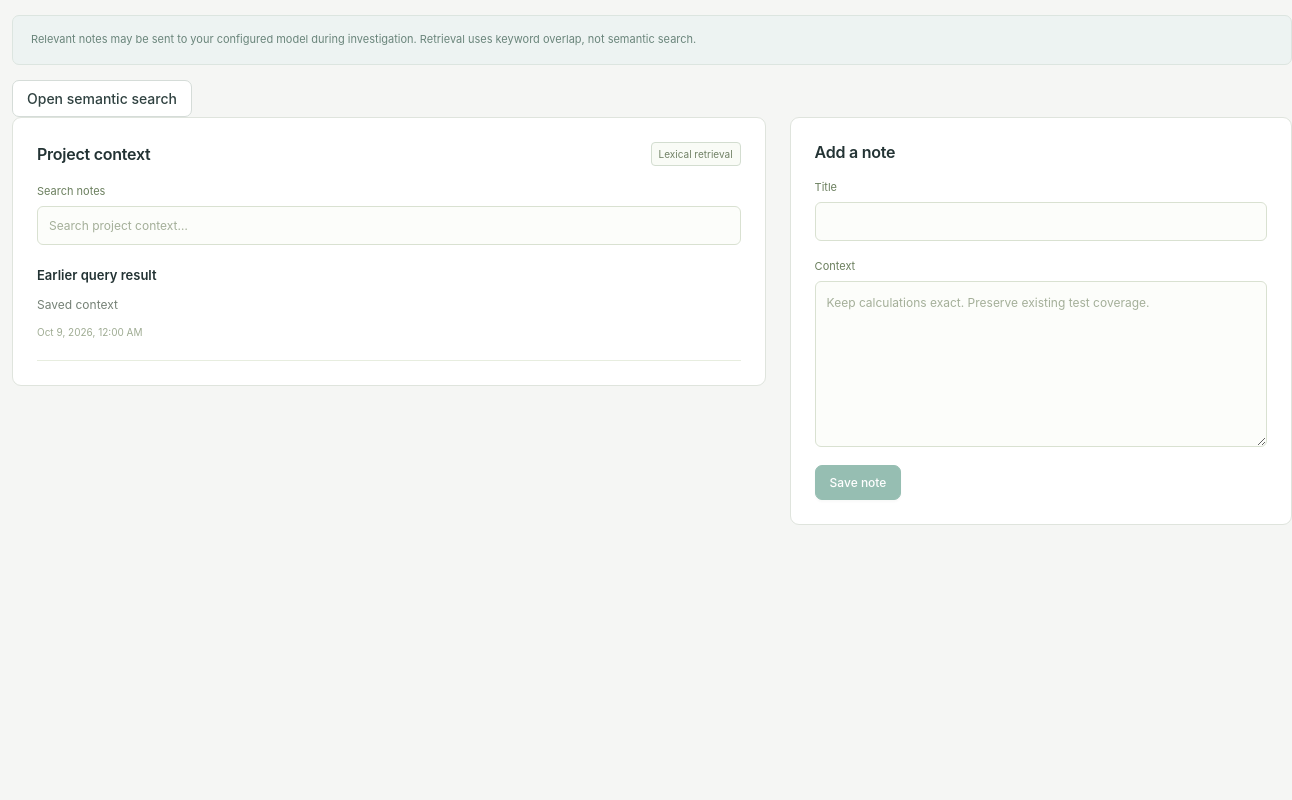
Scenario: failed searches do not present earlier notes as matching the new query and can recover
Expected: the heading "Earlier query result" is shown, [37,267,156,283]
In the search field labelled "Search notes": (389,225) [37,206,741,245], type "x"
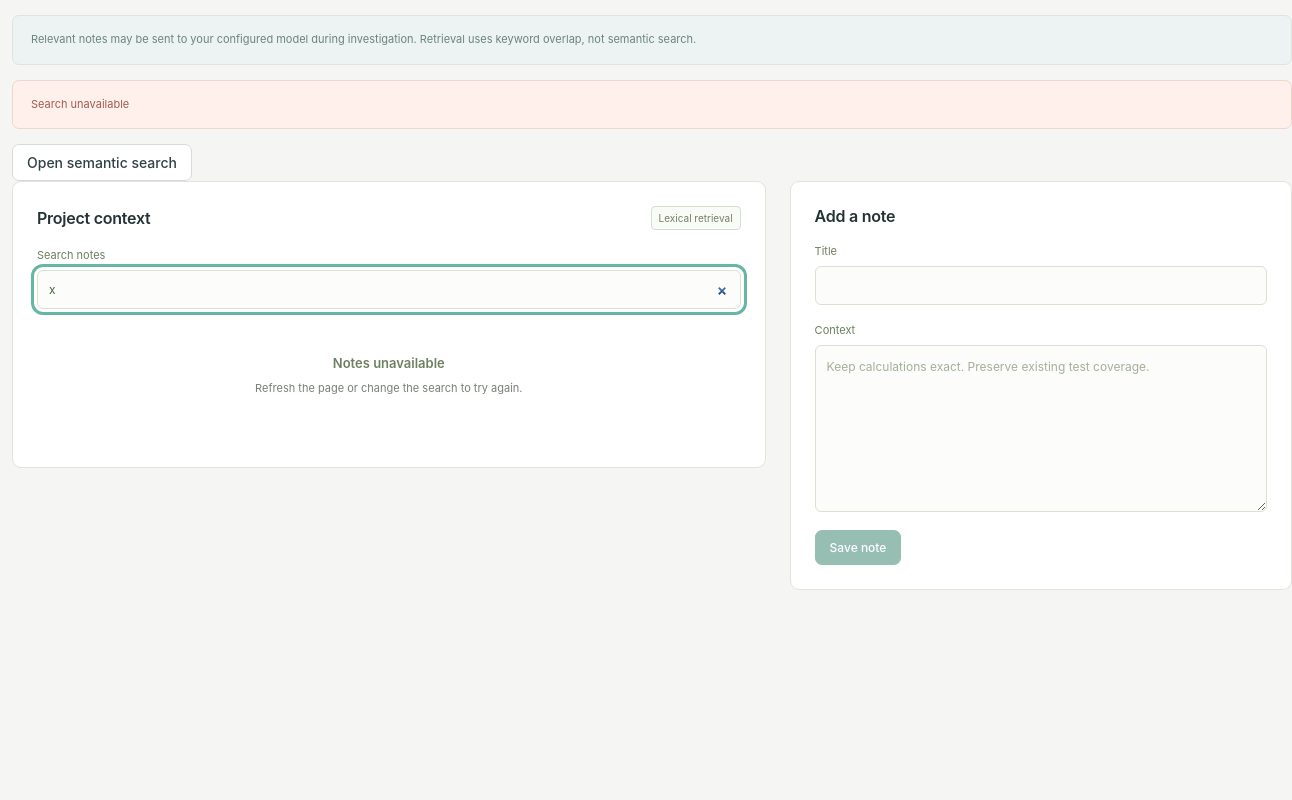
Expected: the heading "Notes unavailable" is shown, [333,355,445,371]
Expected: the heading "Earlier query result" is gone
Clear the search field labelled "Search notes": (389,290) [37,270,741,309]
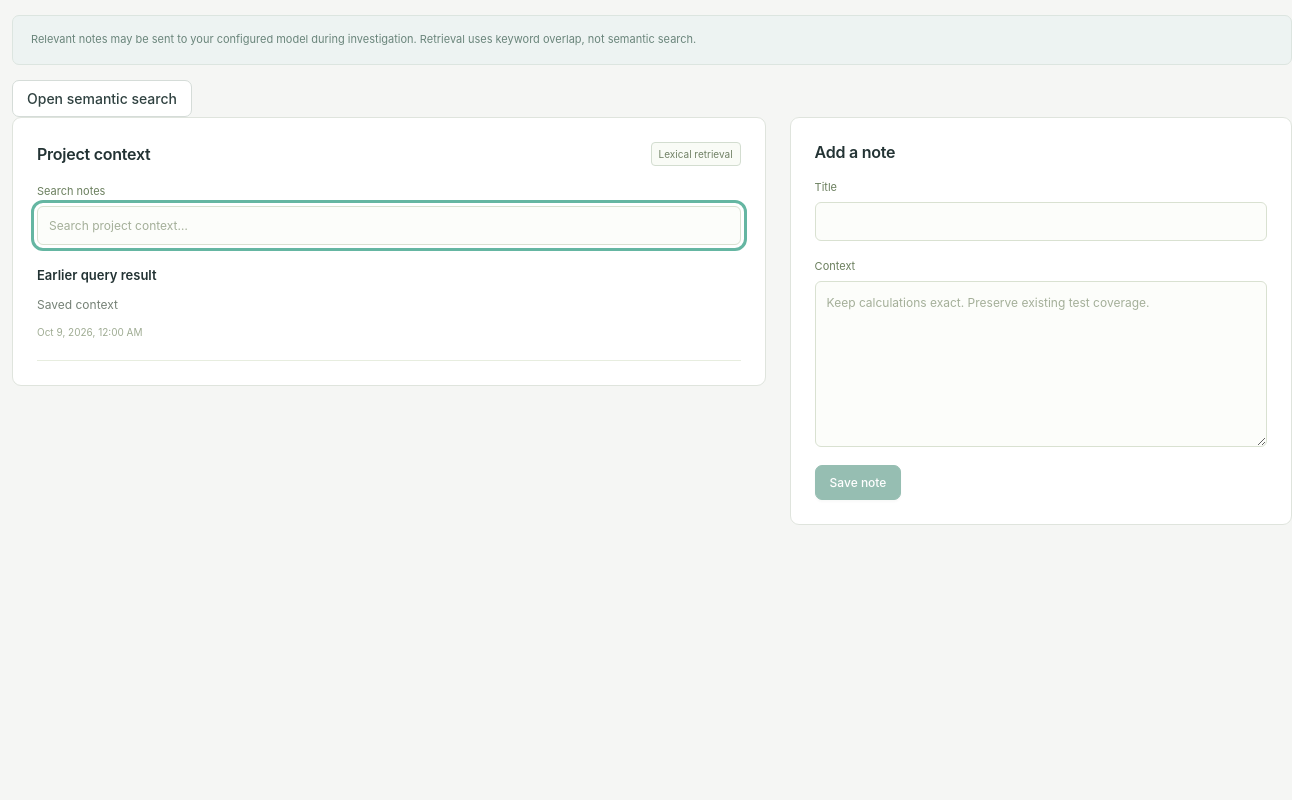
Expected: the heading "Earlier query result" is shown, [37,267,156,283]
Expected: the message "Search unavailable" is gone
